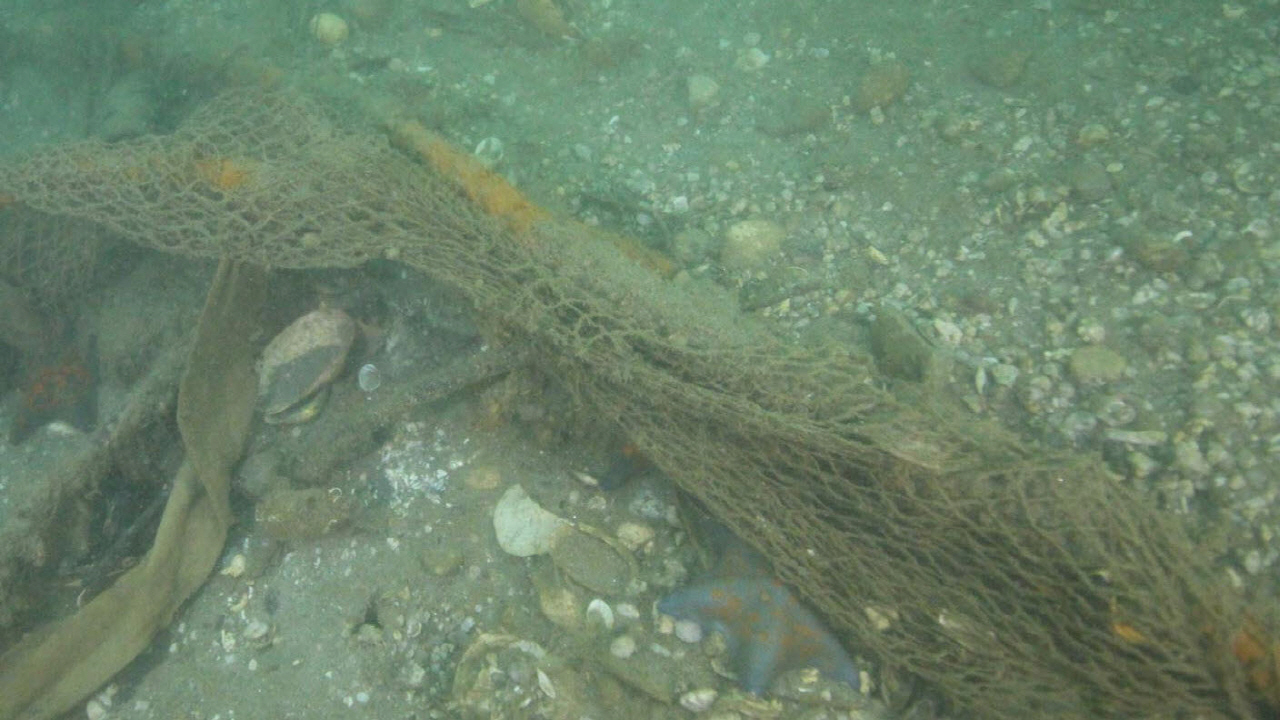fish net: (0, 86, 1280, 720)
